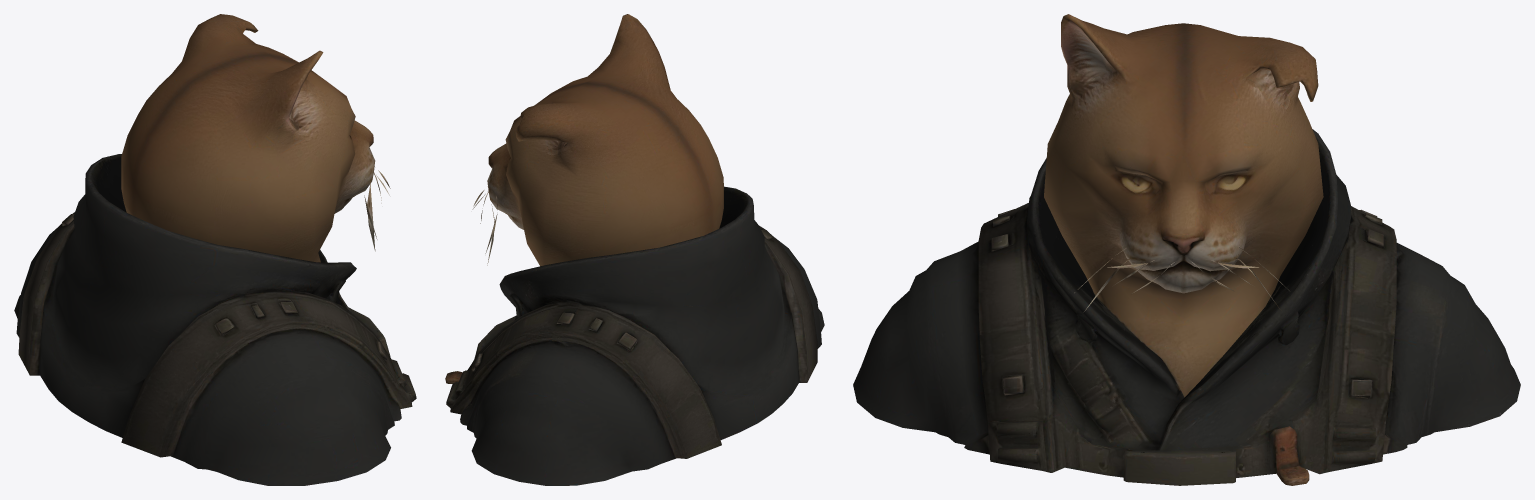
Rendered from head_rusty.glb.
The picture shows the model from 3 angles, left to right: view 1: azimuth 30°, elevation 25°; view 2: azimuth 150°, elevation 25°; view 3: azimuth 270°, elevation 25°; orthographic projection. The views are drawn at different scales.
Parts seen in each view (by area): view 1: tripo_node_7415c018-260c-4b38-8833-c4b70c038195; view 2: tripo_node_7415c018-260c-4b38-8833-c4b70c038195; view 3: tripo_node_7415c018-260c-4b38-8833-c4b70c038195.
Boxes of the visible parts, x1=… form: tripo_node_7415c018-260c-4b38-8833-c4b70c038195: x1=14, y1=14, x2=416, y2=485; tripo_node_7415c018-260c-4b38-8833-c4b70c038195: x1=445, y1=14, x2=824, y2=485; tripo_node_7415c018-260c-4b38-8833-c4b70c038195: x1=853, y1=14, x2=1520, y2=485.
Size of the model in its own units: 0.623 by 0.6816 by 0.998.
Materials: 1 (1 with a texture image).
